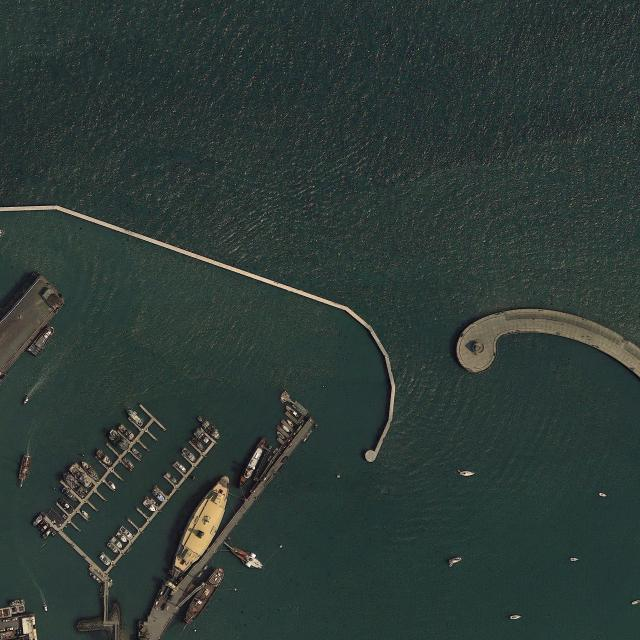ship: (168, 474, 230, 590), (178, 569, 224, 637), (238, 438, 268, 489), (26, 326, 54, 358), (230, 546, 263, 570), (64, 473, 88, 498), (69, 464, 92, 488), (108, 430, 129, 450), (19, 454, 32, 482), (82, 461, 100, 481), (202, 420, 220, 440), (127, 409, 144, 427), (118, 424, 135, 441), (96, 449, 112, 467), (194, 428, 210, 444), (62, 487, 78, 501), (32, 511, 46, 526), (152, 488, 166, 502), (182, 448, 196, 462), (192, 438, 206, 452), (120, 526, 134, 539), (143, 499, 156, 512), (123, 457, 135, 471), (286, 406, 300, 418), (165, 472, 178, 484), (174, 461, 187, 473), (110, 536, 122, 548), (106, 542, 118, 554), (41, 528, 52, 540), (99, 554, 110, 566), (448, 556, 464, 564), (116, 532, 128, 542), (132, 448, 142, 458), (40, 523, 49, 533), (460, 471, 476, 476), (22, 396, 30, 406), (108, 480, 116, 489), (281, 424, 290, 432), (510, 614, 522, 620), (276, 432, 286, 439), (82, 511, 90, 519), (89, 572, 97, 580), (286, 419, 294, 427), (197, 416, 204, 424), (283, 390, 290, 398), (126, 546, 132, 554), (268, 454, 274, 462), (599, 492, 607, 497), (96, 578, 102, 584), (150, 498, 156, 504), (280, 397, 286, 403), (273, 448, 279, 454), (198, 572, 204, 578), (218, 567, 224, 573), (570, 557, 578, 561), (632, 600, 640, 604), (280, 398, 284, 404), (204, 566, 208, 570), (449, 564, 453, 568), (458, 470, 462, 472)
